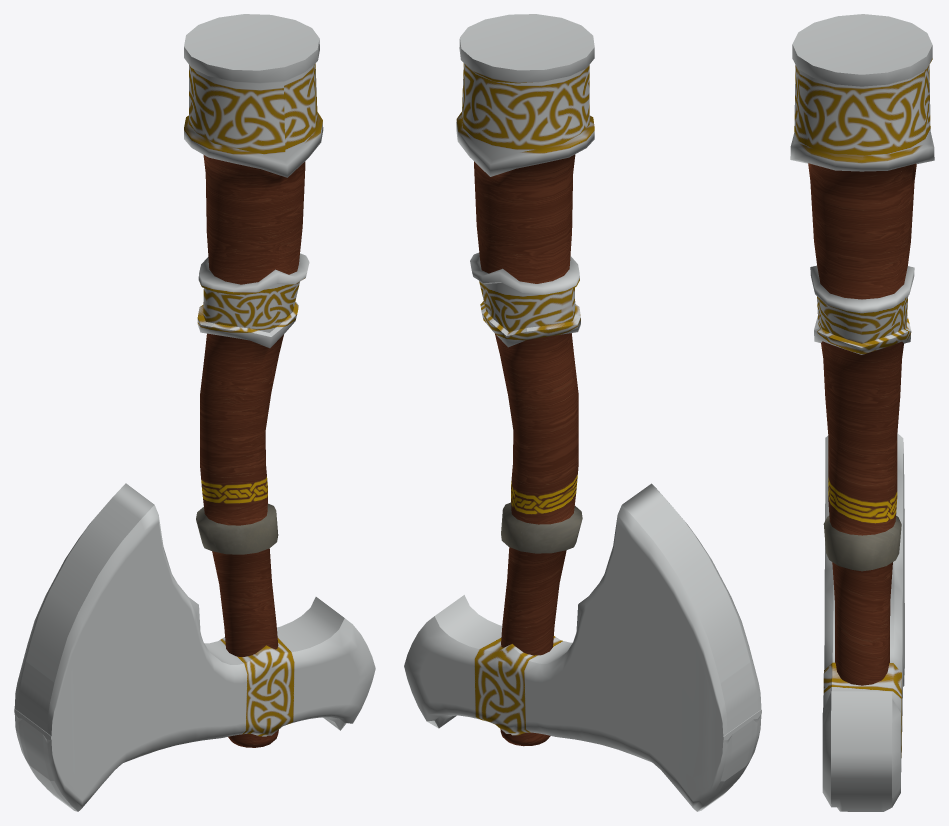
The model's file is axe.fbx.
3 views of the same model, side by side, from view 1: azimuth 30°, elevation 25°; view 2: azimuth 150°, elevation 25°; view 3: azimuth 270°, elevation 25° (orthographic). The views are drawn at different scales.
Visible parts, largest first — view 1: axe_handle, axe_head; view 2: axe_handle, axe_head; view 3: axe_handle, axe_head.
Boxes of the visible parts, x1,y1,x2,y2 form: axe_handle: (184, 14, 323, 747); axe_head: (14, 483, 375, 811); axe_handle: (456, 14, 594, 746); axe_head: (404, 483, 761, 811); axe_handle: (790, 14, 934, 685); axe_head: (822, 433, 904, 811).
Bounding box in the file's own units: 1.74 × 3.64 × 0.638.
